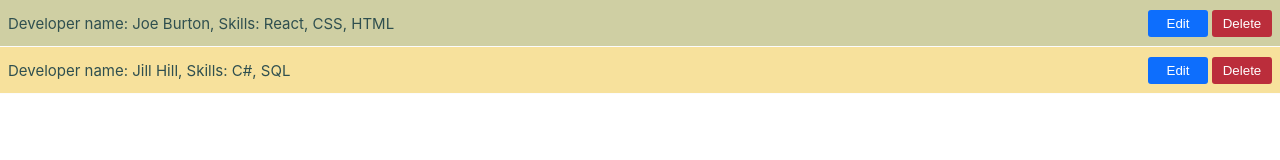
DeveloperListItem › should delete the list item when clicking the delete button
Expected: the list with test id "developer-list" is shown, [0,0,1279,94]
Expected: the number of elements with test id "developer-details" is 2, [8,8,1272,38]; [8,55,1272,85]
Click the button "Delete" in the row of "C#, SQL". click: [1242, 70]
box: [1212,56,1272,84]
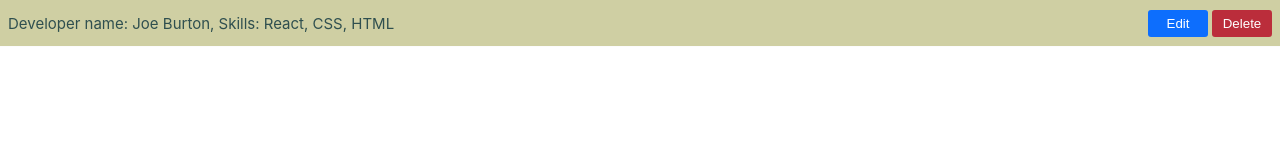
Expected: the number of elements with test id "developer-details" is 1, [8,8,1272,38]
